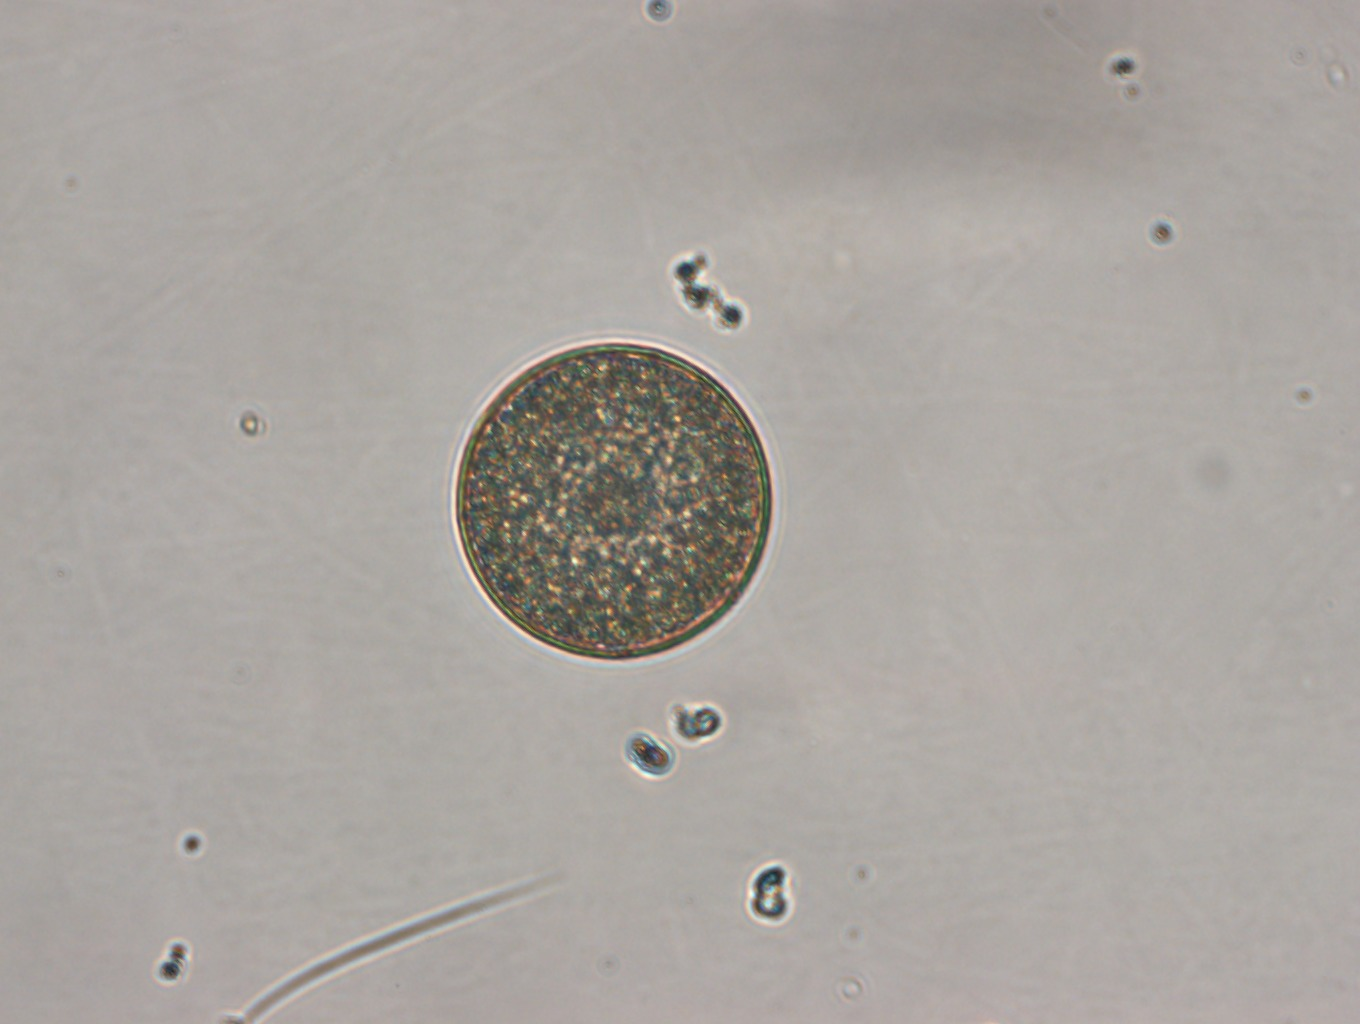coscinodiscus: (450, 336, 774, 662)
